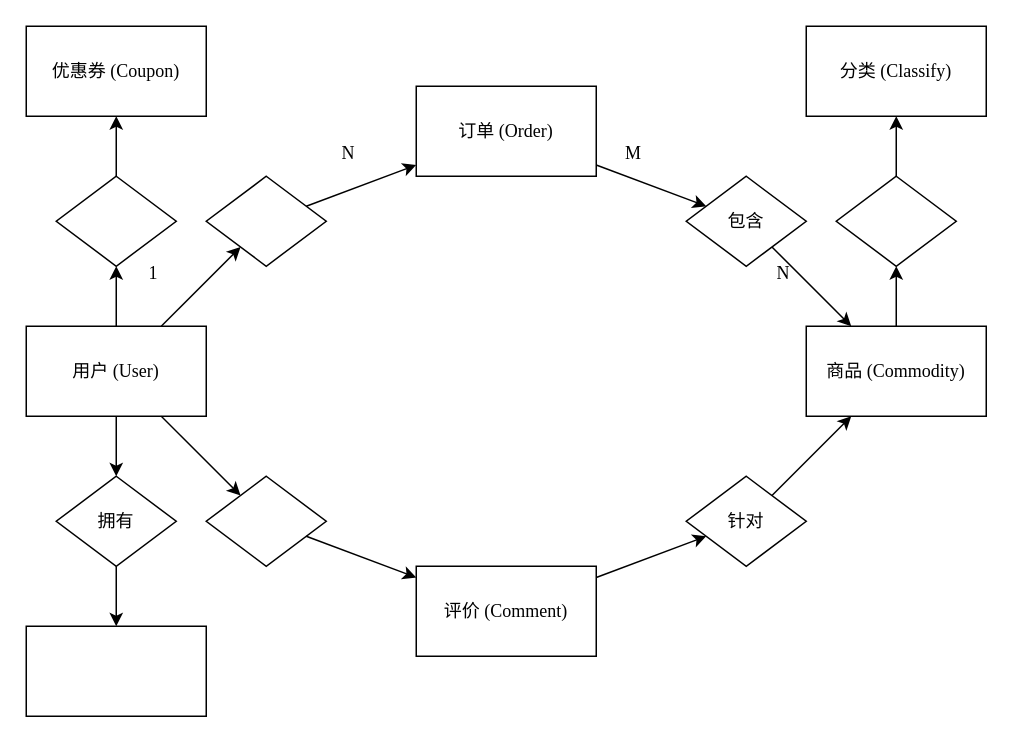
This 1013x743 diagram has some shape labels left out. The centre of each missing label's shape, as x and y in pixels:
"发表" goes at pixel 265 520.
"地址 (Address)" goes at pixel 115 670.
"属于" goes at pixel 895 220.
"提交" goes at pixel 265 220.
"领用" goes at pixel 115 220.
